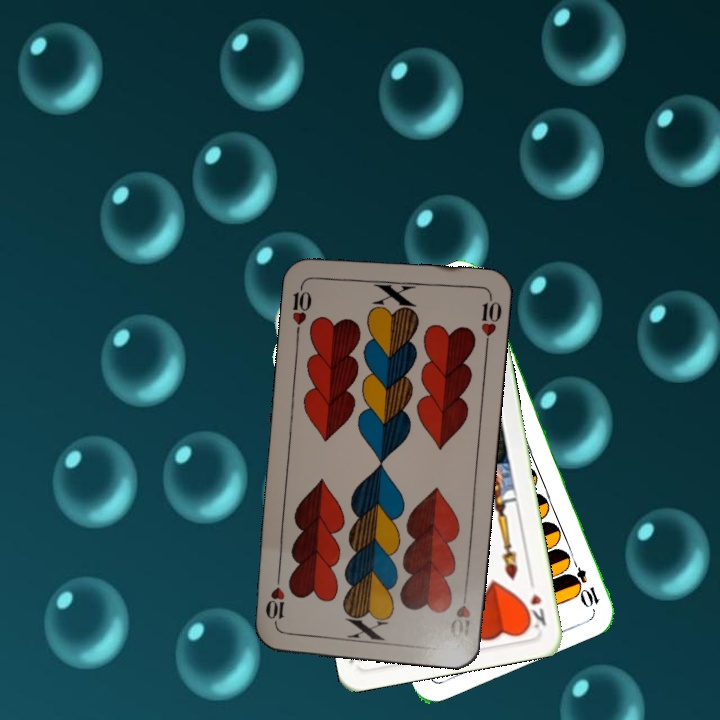E10: (565, 553, 602, 610)
H10: (446, 584, 473, 643), (288, 278, 315, 337)
HK: (521, 573, 549, 631)
